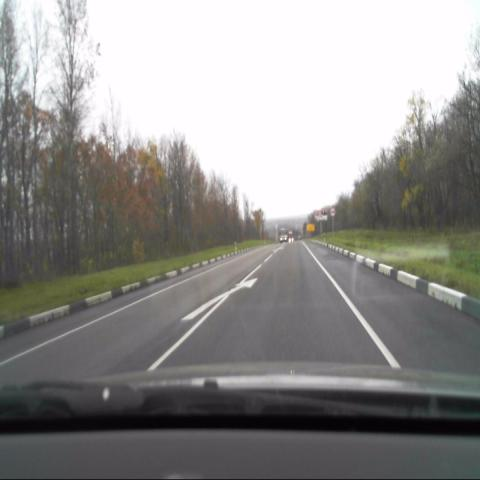3_20: (328, 206, 336, 218)
